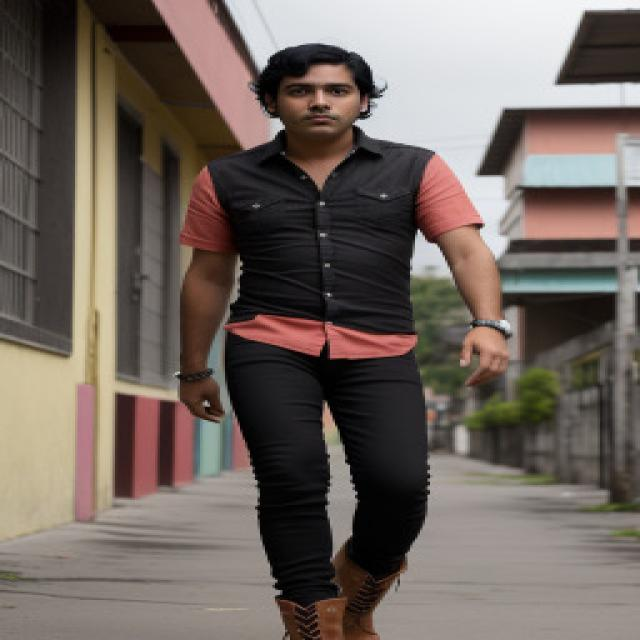Ai human 2: (152, 28, 538, 640)
